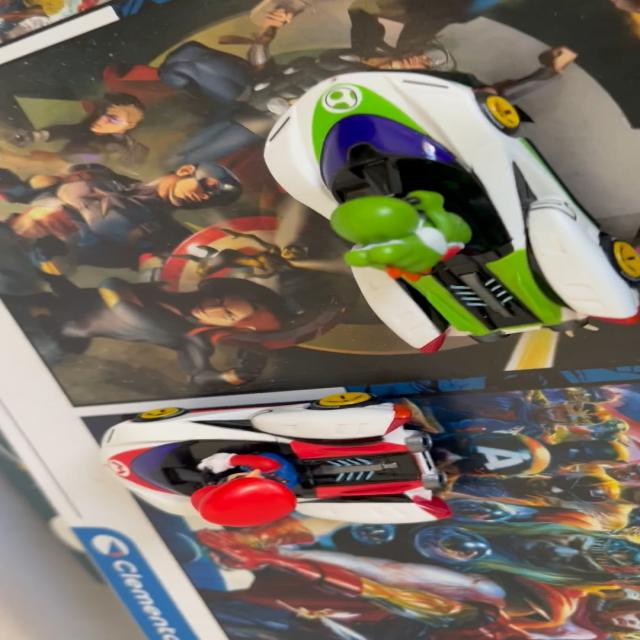mario: (83, 382, 494, 549)
yoshi: (239, 40, 639, 371)
